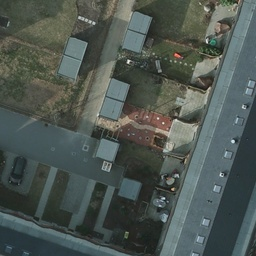car: (8, 153, 26, 187)
